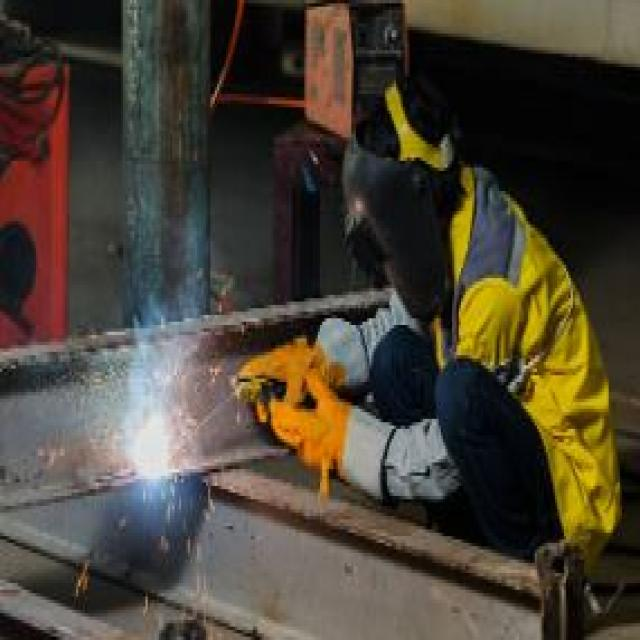welding: (134, 416, 170, 476)
